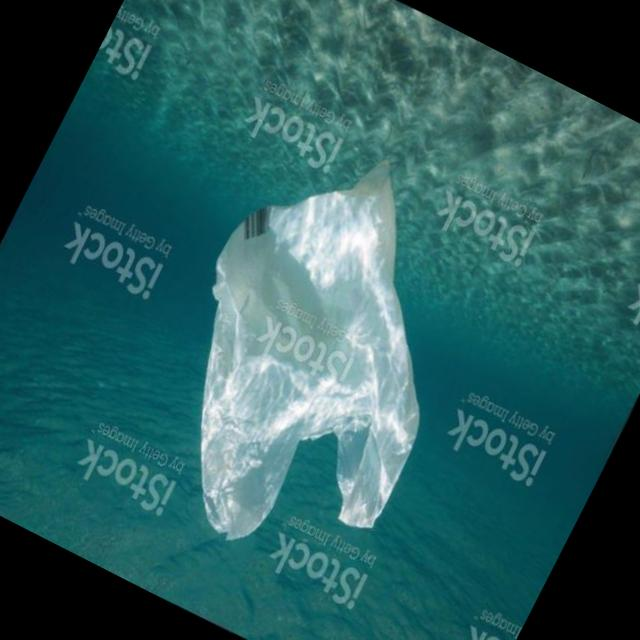KantongPlastik: (104, 111, 528, 600)
